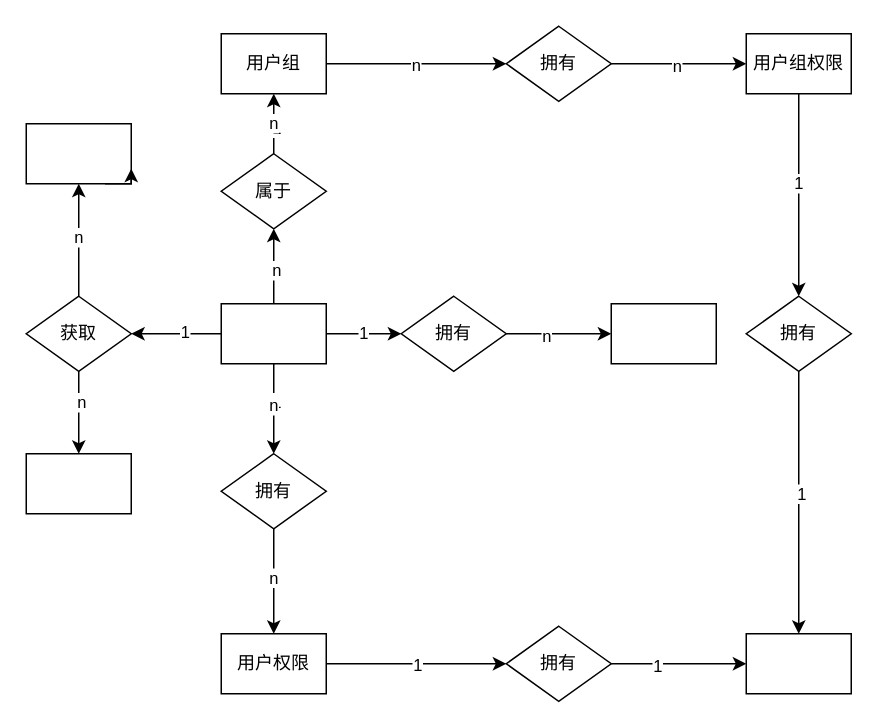
Image size: 878x728. Some labels were removed from this diagram. The box of each missing label's shape, as (x1, y1, x2, y2) in pixels:
session: (745, 632, 851, 694)
操作日志: (610, 302, 716, 364)
漏洞信息: (25, 122, 131, 184)
用户: (220, 302, 326, 364)
端口信息: (25, 452, 131, 514)
